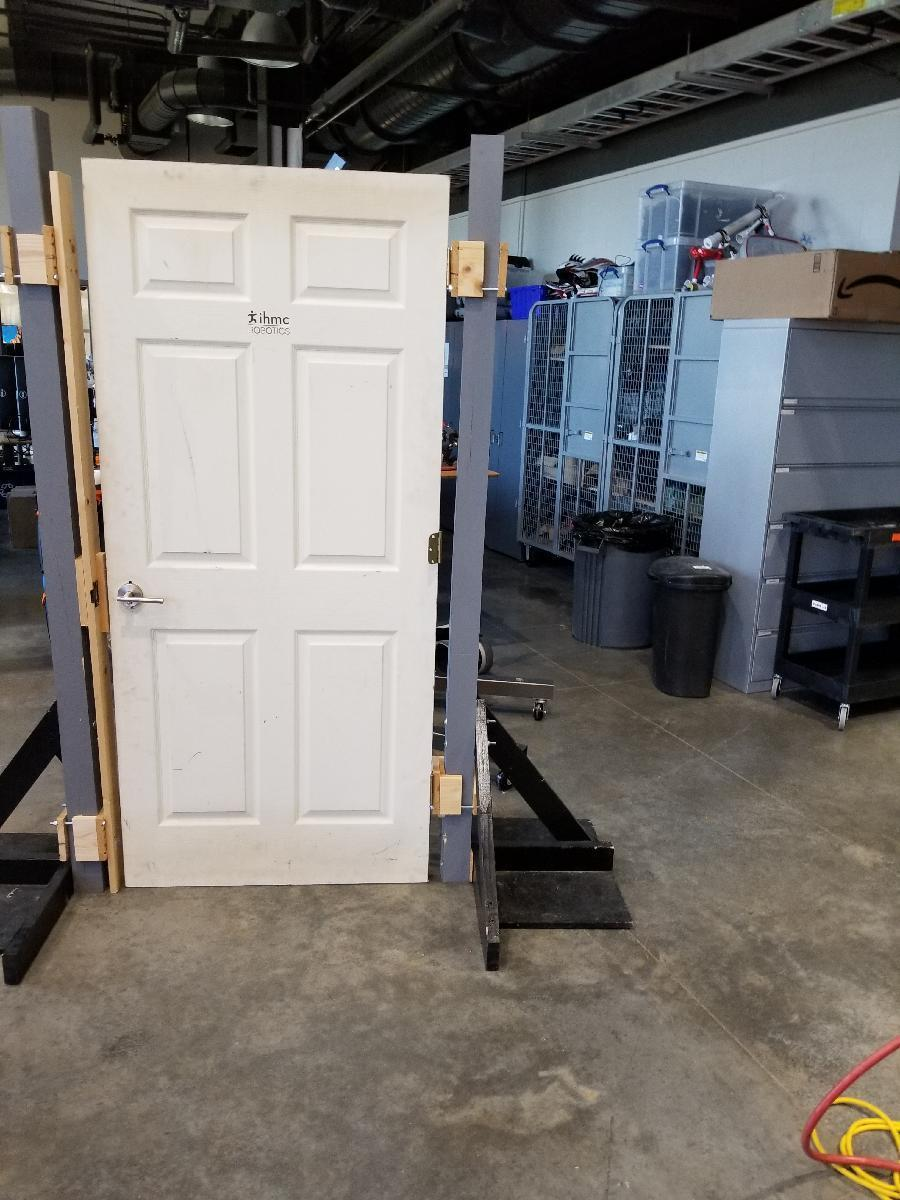door: (106, 163, 432, 889)
handle: (113, 580, 168, 612)
